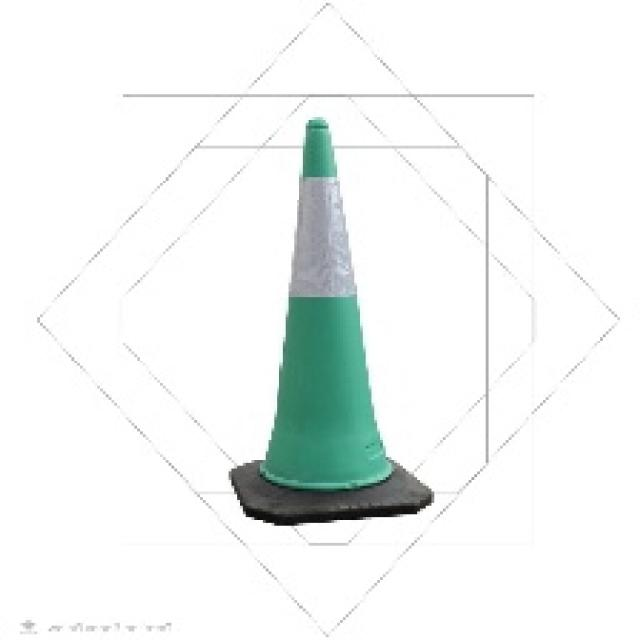cone: (228, 117, 433, 526)
